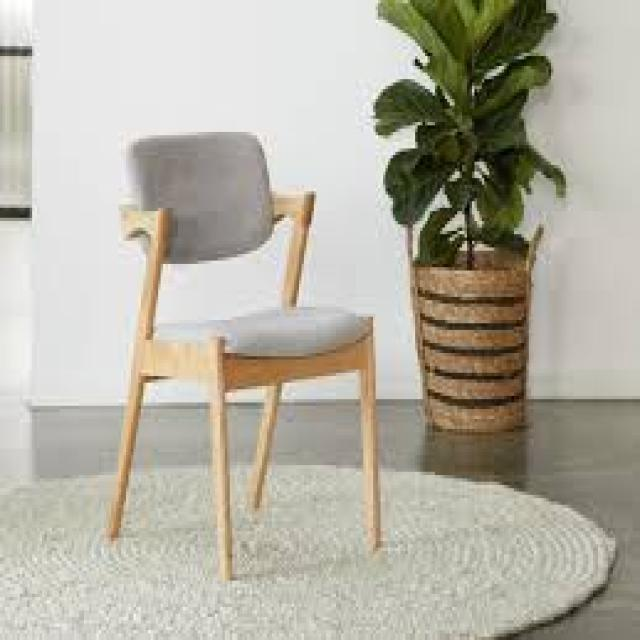chair: (84, 104, 391, 604)
